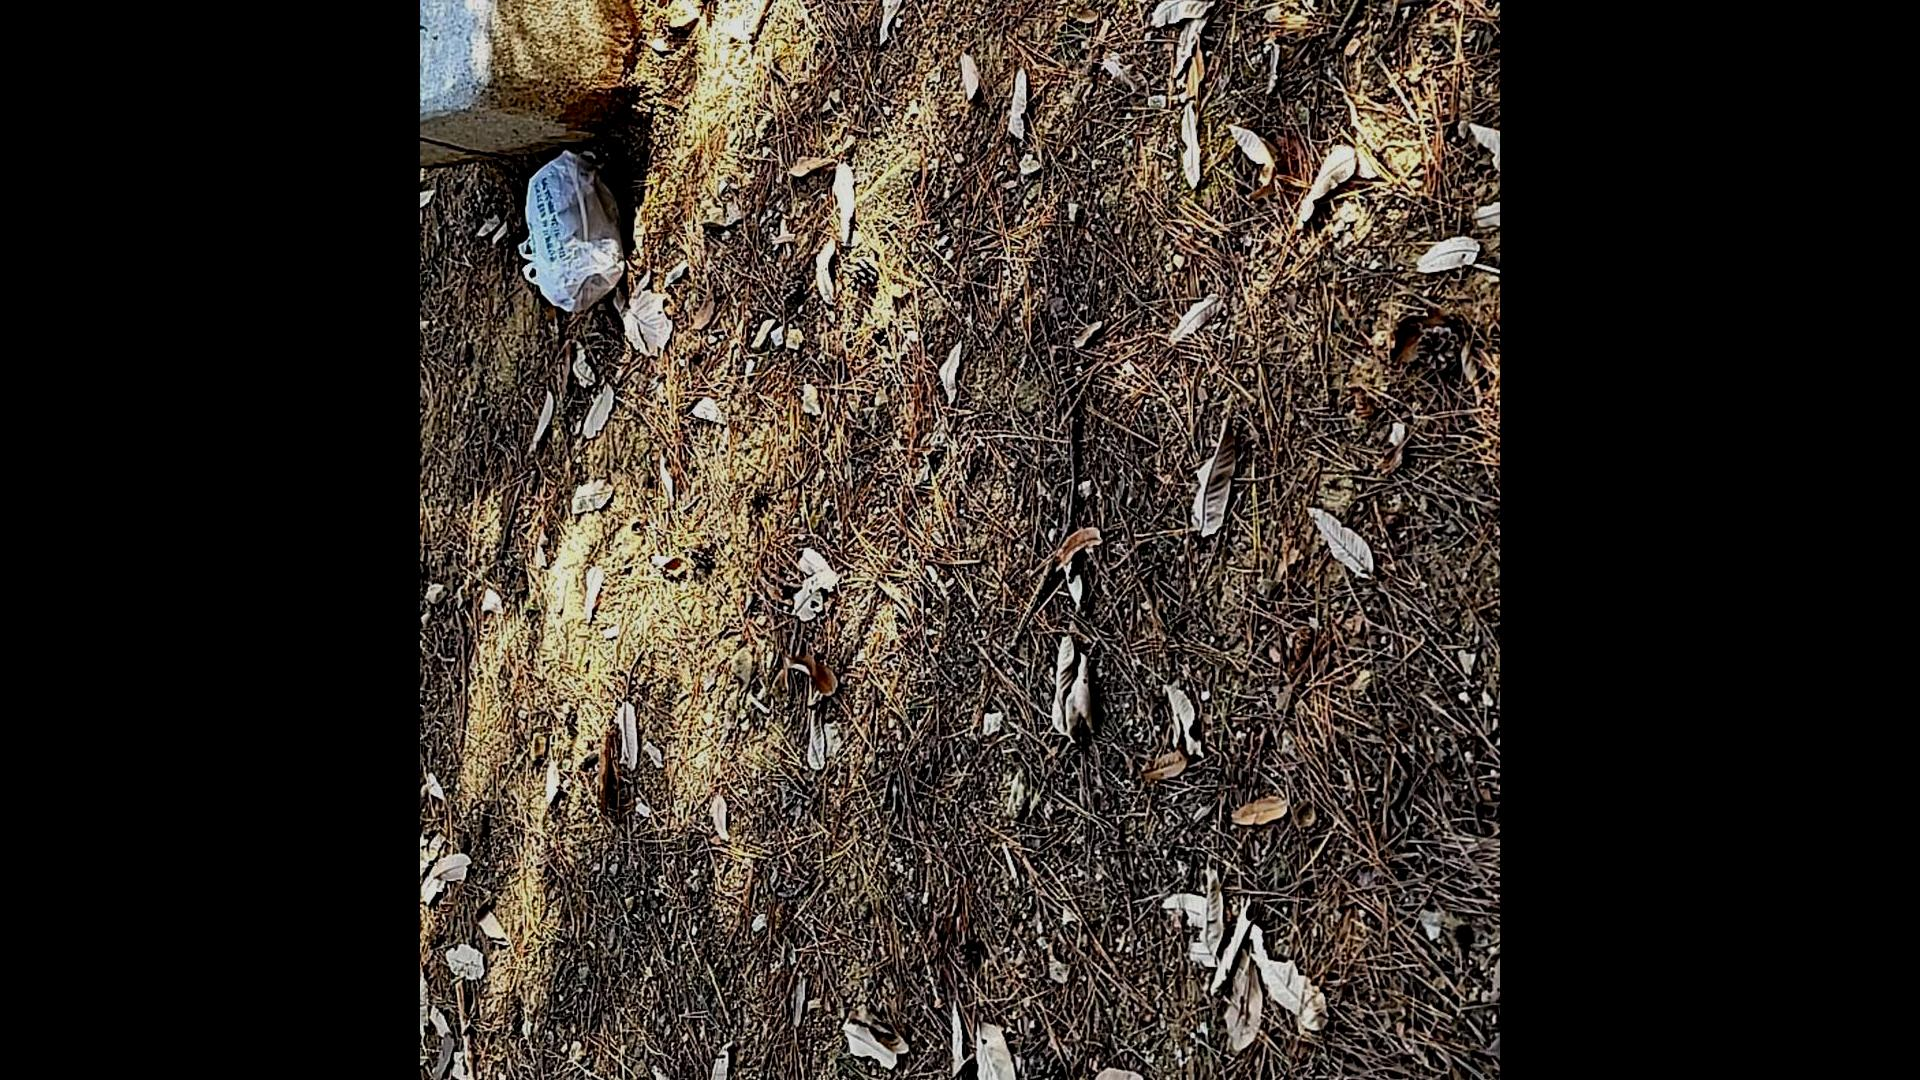white_bag: (502, 138, 644, 327)
